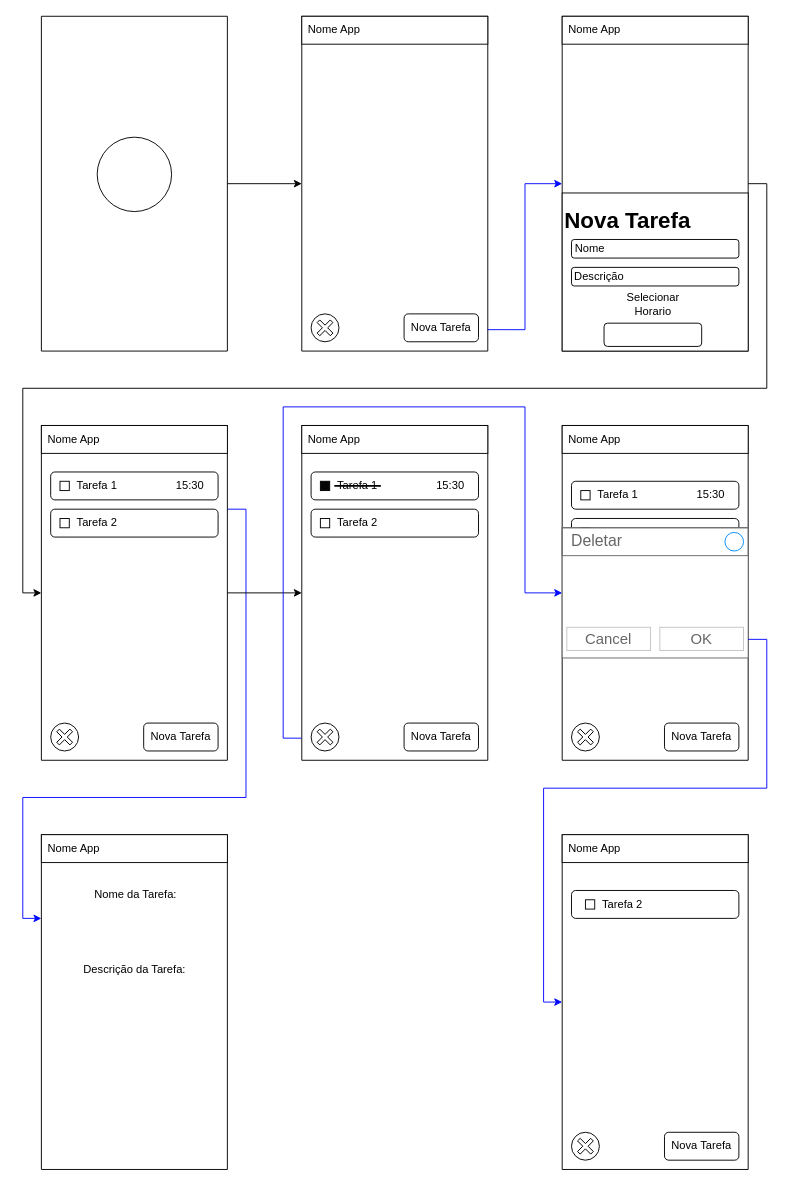
Some shapes in this 791 by 1186 pixel diagram are drawn without their labels. Each missing label, with the box of its shape:
Criar Tarefa: (603, 322, 702, 346)
Deletar as tarefas completadas: (561, 527, 748, 658)
